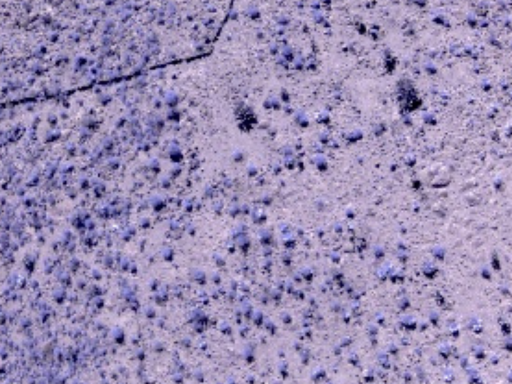agave: (464, 312, 489, 338), (164, 134, 185, 161), (310, 152, 333, 176), (147, 188, 168, 214), (418, 260, 443, 281), (416, 107, 441, 127), (41, 126, 64, 147), (419, 58, 443, 78), (342, 126, 367, 145), (292, 108, 313, 130), (118, 254, 140, 275), (429, 242, 452, 260), (22, 172, 45, 190), (477, 77, 498, 96), (477, 261, 496, 282), (313, 106, 334, 125), (328, 247, 346, 269), (398, 311, 421, 328), (369, 240, 388, 260), (280, 231, 300, 250), (158, 172, 177, 192), (167, 162, 187, 181), (49, 285, 68, 305), (56, 268, 75, 288), (374, 260, 392, 281), (389, 263, 407, 284), (158, 244, 179, 262), (241, 343, 259, 363), (257, 188, 277, 206), (263, 316, 280, 337), (375, 348, 392, 369), (395, 238, 411, 260), (447, 320, 465, 339), (110, 325, 129, 343), (145, 155, 163, 174), (230, 221, 249, 239), (309, 365, 329, 382), (491, 170, 506, 192), (290, 53, 308, 71), (436, 340, 454, 358), (298, 265, 316, 283), (136, 213, 154, 231), (43, 111, 61, 129), (276, 359, 293, 377), (229, 146, 247, 163), (90, 266, 107, 284), (257, 227, 274, 245), (259, 93, 275, 112), (241, 299, 257, 318), (44, 28, 63, 44), (345, 348, 361, 367), (471, 342, 488, 359), (331, 219, 348, 236), (246, 6, 263, 23), (279, 309, 296, 326), (73, 53, 90, 70), (34, 42, 51, 59), (101, 133, 118, 150), (462, 11, 480, 27), (402, 152, 420, 168), (217, 318, 235, 334), (164, 89, 182, 105), (342, 204, 359, 220), (142, 303, 158, 320), (270, 93, 285, 111), (251, 308, 266, 326), (277, 219, 292, 237), (432, 9, 447, 27), (283, 154, 298, 172), (245, 162, 261, 178), (193, 269, 209, 285), (118, 226, 135, 241), (183, 196, 198, 213), (59, 160, 76, 175), (21, 315, 36, 332), (371, 309, 387, 324), (107, 156, 124, 170), (76, 174, 91, 189), (411, 197, 423, 215), (281, 45, 296, 59), (121, 286, 135, 301), (69, 30, 84, 44), (313, 8, 326, 24), (185, 222, 198, 238), (204, 3, 221, 15), (273, 22, 288, 35), (238, 234, 251, 249), (91, 81, 104, 96), (462, 41, 476, 54), (267, 41, 280, 55), (146, 275, 160, 288), (64, 141, 77, 155), (226, 204, 240, 217), (428, 309, 440, 324), (21, 193, 36, 205), (210, 269, 223, 282), (172, 371, 185, 384), (15, 184, 28, 197), (19, 229, 32, 242), (480, 15, 492, 29), (8, 288, 19, 303), (227, 8, 240, 20), (134, 347, 146, 360), (196, 338, 209, 350), (154, 66, 167, 78), (85, 216, 96, 230), (240, 200, 251, 214), (350, 298, 362, 310), (282, 144, 295, 155), (184, 11, 196, 22), (284, 99, 292, 115), (1, 285, 9, 301), (499, 79, 509, 91), (309, 1, 322, 10), (188, 22, 200, 30)
